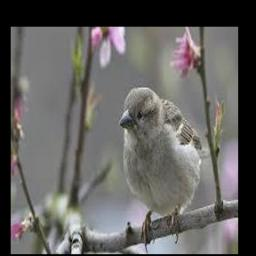Sparrow: (118, 86, 211, 251)
